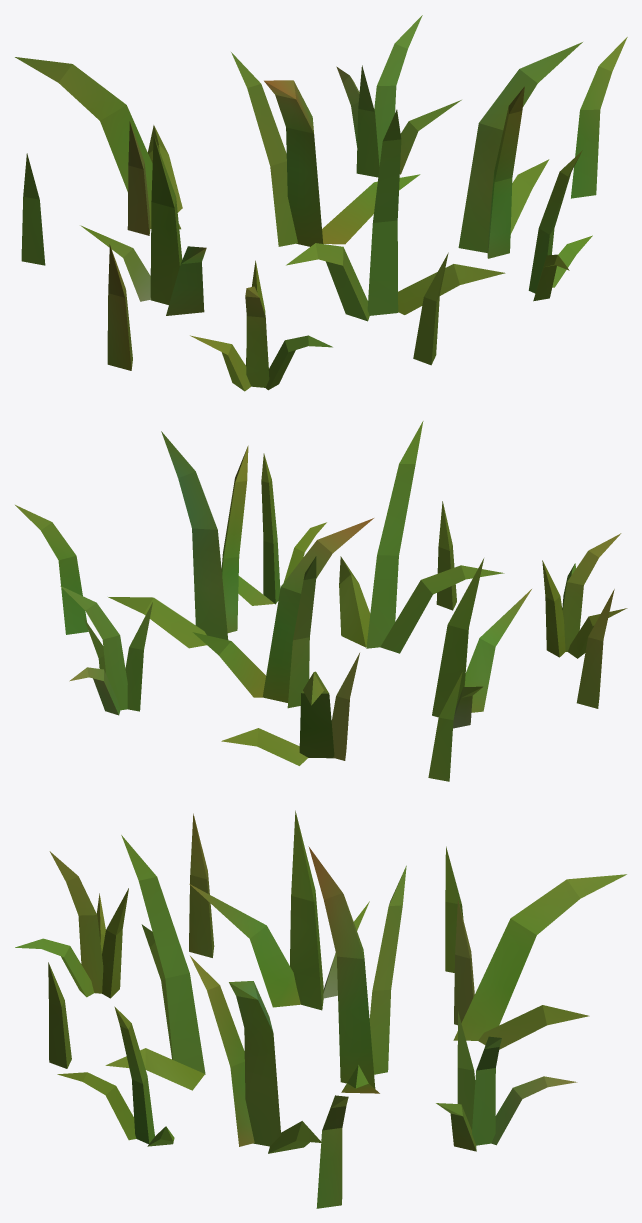
File: mega-pack-cylinder-100.glb
3 views of the same model, one above another, from view 1: azimuth 30°, elevation 25°; view 2: azimuth 150°, elevation 25°; view 3: azimuth 270°, elevation 25° (orthographic). The views are drawn at different scales.
Visible parts, largest first — view 1: Cylinder.100; view 2: Cylinder.100; view 3: Cylinder.100.
Boxes of the visible parts, box(x1,y1,x2,y2) form: Cylinder.100: box(15, 15, 627, 391); Cylinder.100: box(15, 421, 627, 781); Cylinder.100: box(15, 810, 626, 1208).
Size of the model in its own units: 0.9101 by 0.3365 by 0.8147.
1 material, 1 textured.
